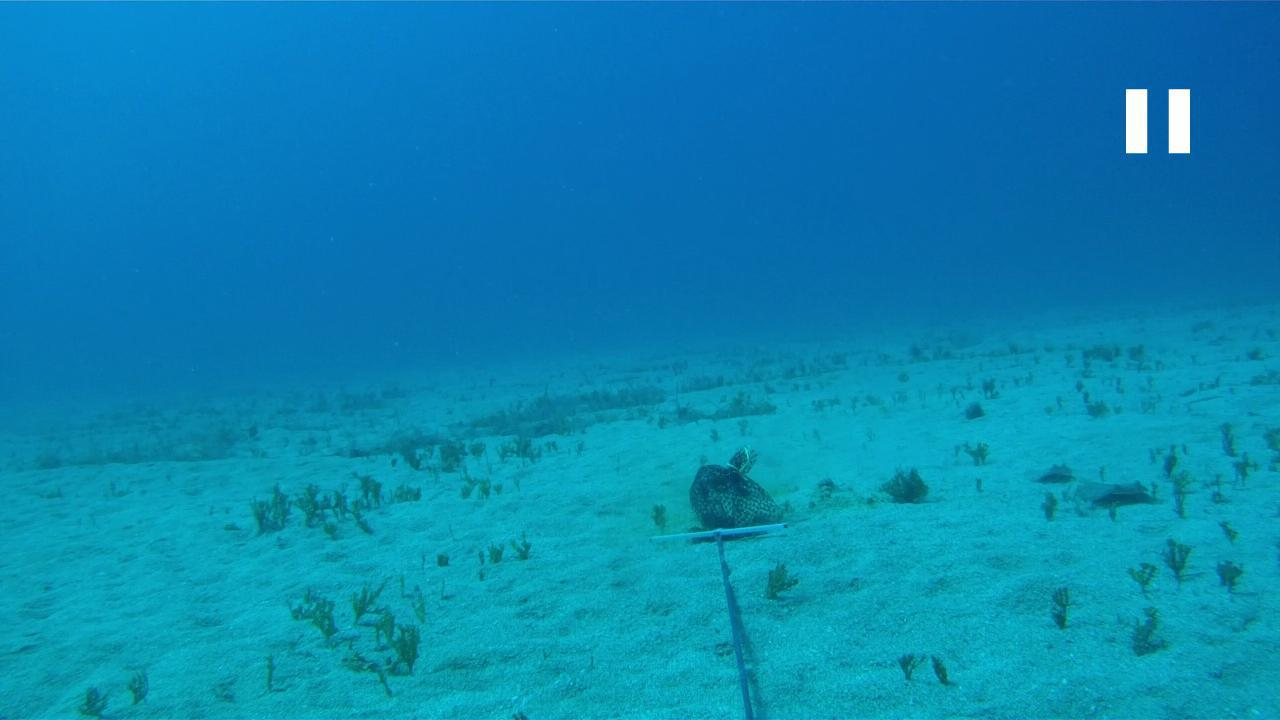bothus: (1058, 475, 1164, 509)
